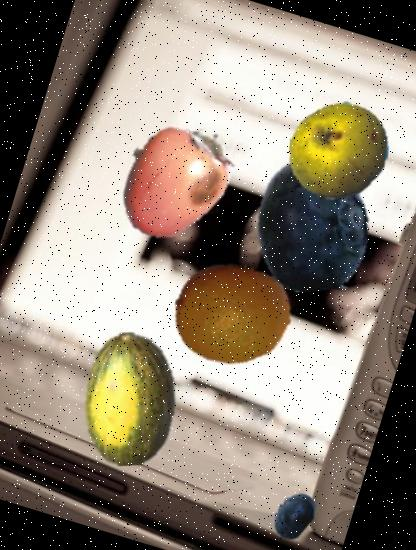Beetroot: (332, 130, 399, 196)
Blueberry: (229, 138, 398, 308), (262, 483, 326, 547)
Kaki: (94, 100, 252, 258)
Lemon: (159, 240, 306, 388)
Melon: (48, 316, 215, 482)
Pear: (276, 88, 402, 214)
